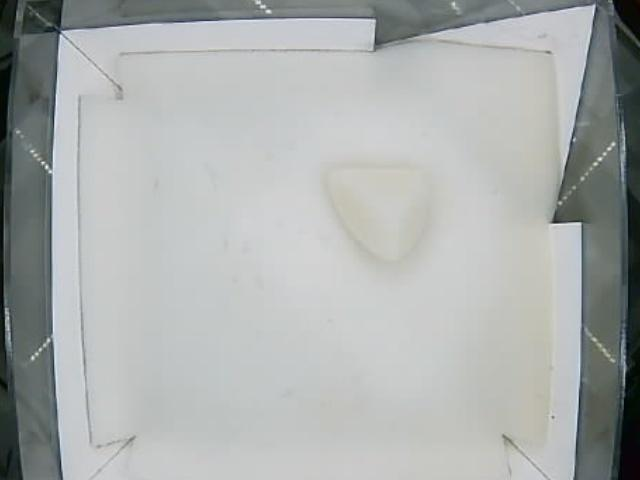Mooli: (325, 167, 432, 262)
